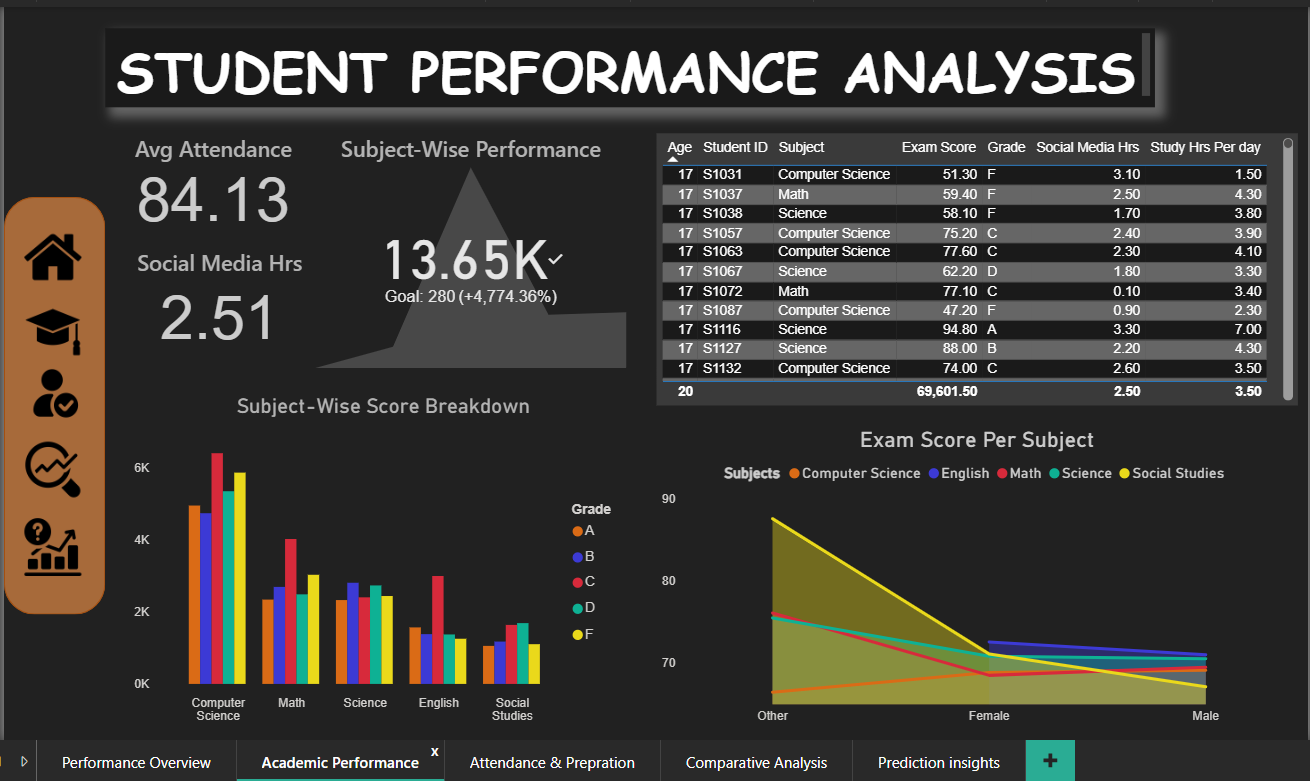

What the dashboard file says about the page in this screenshot:
{"tool":"powerbi","page":{"name":"Academic Performance","canvas":[1280,720],"ordinal":1},"visuals":[{"type":"shape","box":[0,186.5,99.4,409.8],"z":0},{"type":"textbox","box":[99.4,20.9,1030.7,77.3],"z":1000},{"type":"image","box":[0,212.3,95.7,66.3],"z":2000},{"type":"image","box":[0,285.9,95.7,66.3],"z":3000},{"type":"image","box":[3.7,346,95.7,66.3],"z":4000},{"type":"image","box":[0,420.9,95.7,66.3],"z":5000},{"type":"image","box":[0,496.9,95.7,66.3],"z":6000},{"type":"actionButton","box":[0,212.3,99.4,66.3],"z":7000},{"type":"actionButton","box":[0,278.5,99.4,73.6],"z":8000},{"type":"actionButton","box":[0,346,99.4,66.3],"z":9000},{"type":"actionButton","box":[0,420.9,99.4,66.3],"z":10000},{"type":"actionButton","box":[0,496.9,99.4,66.3],"z":11000},{"type":"areaChart","title":"Exam Score Per Subject","fields":{"Category":["student_habits_performance.gender"],"Y":["Avg(student_habits_performance.exam_score)"],"Series":["student_habits_performance.Subjects"]},"box":[640.5,412.3,629.5,299.4],"z":12000},{"type":"tableEx","fields":{"Values":["Median(student_habits_performance.age)","student_habits_performance.student_id","student_habits_performance.Subjects","Sum(student_habits_performance.exam_score)","student_habits_performance.Grade","Median(student_habits_performance.social_media_hours)","Median(student_habits_performance.study_hours_per_day)"]},"box":[640.5,123.9,629.5,267.5],"z":13000},{"type":"lineClusteredColumnComboChart","title":"Subject-Wise Score Breakdown","fields":{"Category":["student_habits_performance.Subjects"],"Y":["Sum(student_habits_performance.exam_score)"],"Series":["student_habits_performance.Grade"]},"box":[122.7,379.1,499.4,332.5],"z":14000},{"type":"card","title":"Avg Attendance","fields":{"Values":["Avg(student_habits_performance.attendance_percentage)"]},"box":[122.7,123.9,165.6,92],"z":15000},{"type":"card","title":"Social Media Hrs","fields":{"Values":["Avg(student_habits_performance.social_media_hours)"]},"box":[122.7,235.6,177.9,99.4],"z":16000},{"type":"kpi","title":"Subject-Wise Performance","fields":{"TrendLine":["student_habits_performance.Grade"],"Goal":["CountNonNull(student_habits_performance.Subjects)"],"Indicator":["Sum(student_habits_performance.exam_score)"]},"box":[300.6,123.9,315.3,235.6],"z":17000}]}

Visuals, with their boxes on the page's 1280x720 design canvas (x1, y1, x2, y2). These are canvas units, not pixel positions in the 1310x781 screenshot, which may show the page scaled, cropped or inside an application window:
shape: bbox(0, 186, 99, 596)
textbox: bbox(99, 21, 1130, 98)
image: bbox(0, 212, 96, 279)
image: bbox(0, 286, 96, 352)
image: bbox(4, 346, 99, 412)
image: bbox(0, 421, 96, 487)
image: bbox(0, 497, 96, 563)
actionButton: bbox(0, 212, 99, 279)
actionButton: bbox(0, 278, 99, 352)
actionButton: bbox(0, 346, 99, 412)
actionButton: bbox(0, 421, 99, 487)
actionButton: bbox(0, 497, 99, 563)
"Exam Score Per Subject" areaChart: bbox(640, 412, 1270, 712)
tableEx - Median(student_habits_performance.age) x student_habits_performance.student_id: bbox(640, 124, 1270, 391)
"Subject-Wise Score Breakdown" lineClusteredColumnComboChart: bbox(123, 379, 622, 712)
"Avg Attendance" card: bbox(123, 124, 288, 216)
"Social Media Hrs" card: bbox(123, 236, 301, 335)
"Subject-Wise Performance" kpi: bbox(301, 124, 616, 360)
